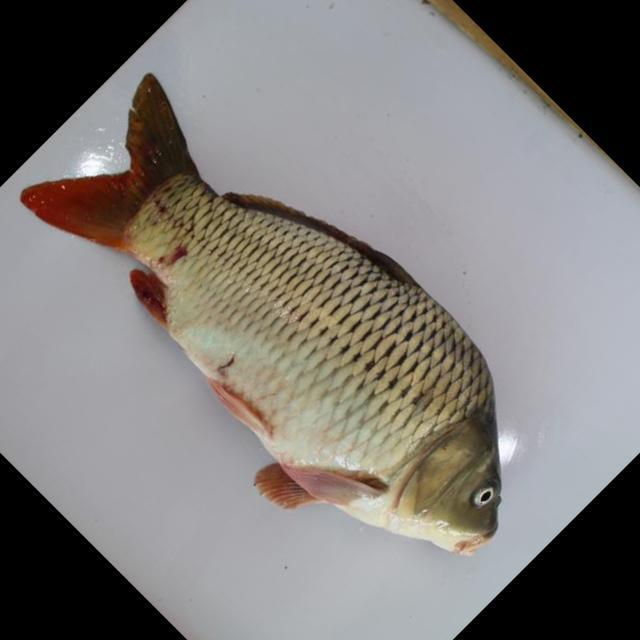CommonCarp: (21, 74, 527, 557)
